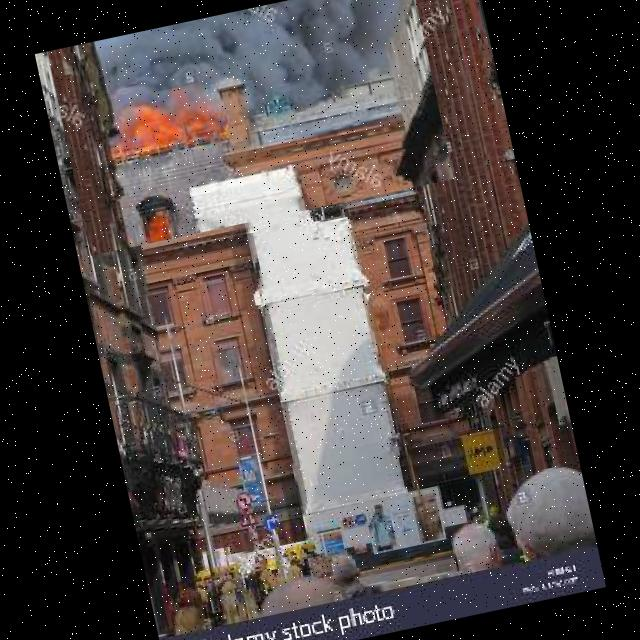fire: (47, 0, 453, 255)
